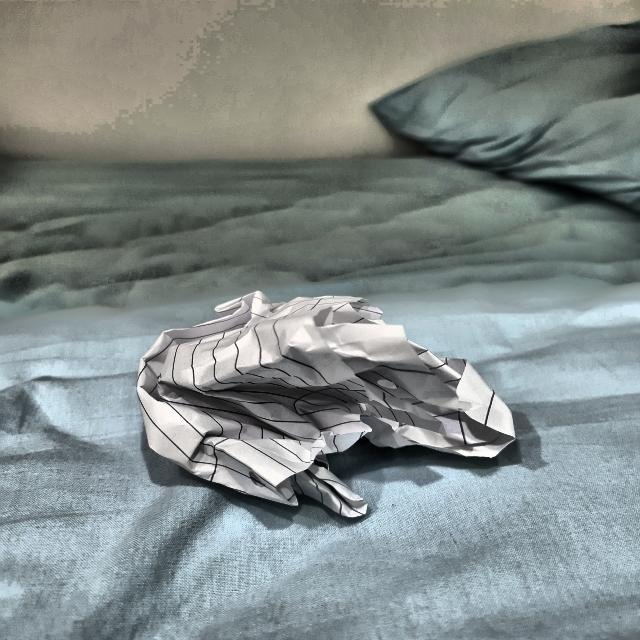Paper: (142, 294, 528, 516)
